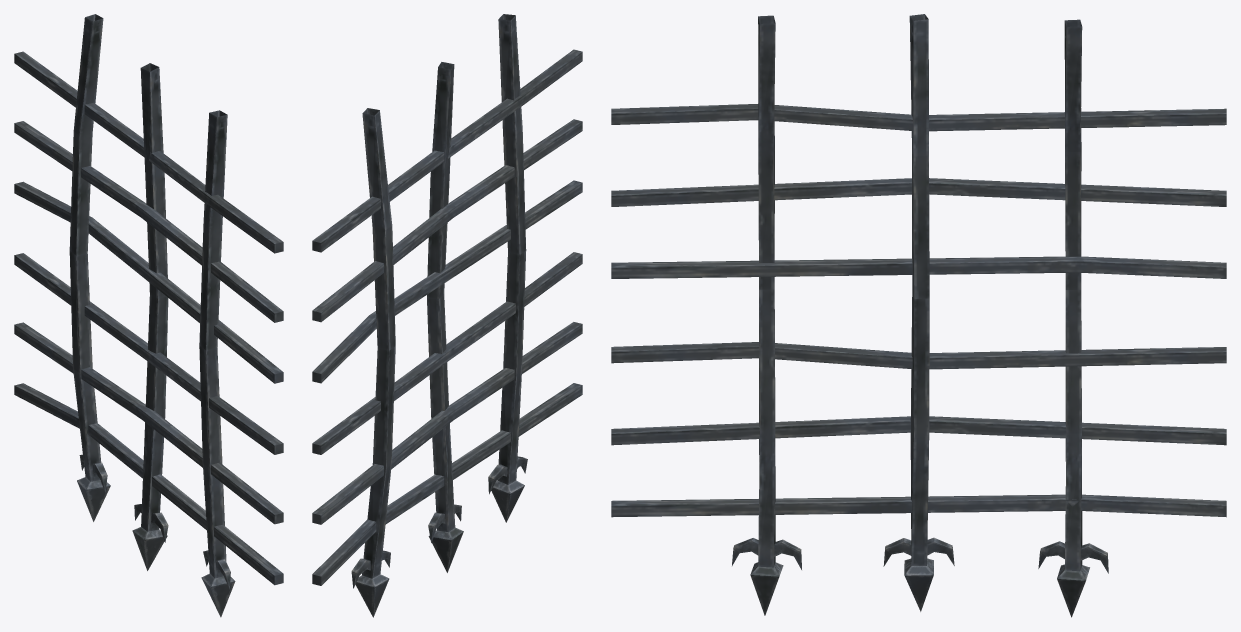
File: GateGrate.obj
3 views of the same model, side by side, from view 1: azimuth 30°, elevation 25°; view 2: azimuth 150°, elevation 25°; view 3: azimuth 270°, elevation 25° (orthographic). The views are drawn at different scales.
Visible parts, largest first — view 1: GateGrate; view 2: GateGrate; view 3: GateGrate.
Part boxes in pixels (box(x1,y1,x2,y2)): GateGrate: box(14, 14, 283, 617); GateGrate: box(312, 14, 582, 617); GateGrate: box(611, 14, 1226, 617).
Bounding box in the file's own units: 0.7445 × 10.7 × 10.
